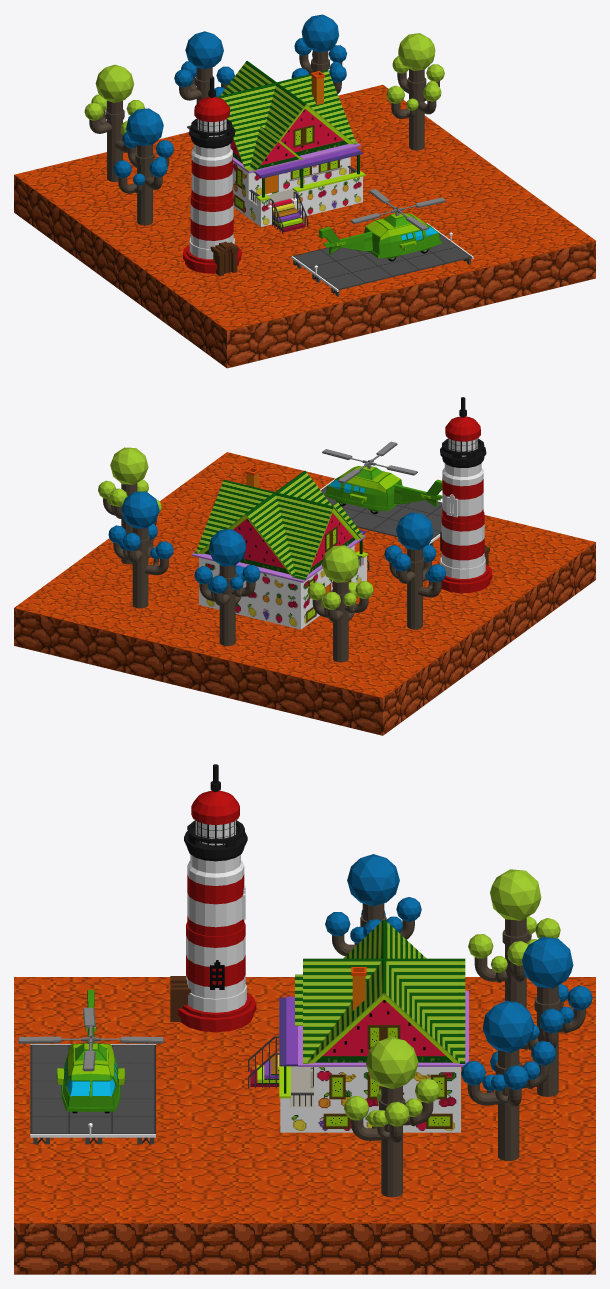
The picture shows the model from 3 angles, top to bottom: view 1: azimuth 30°, elevation 25°; view 2: azimuth 150°, elevation 25°; view 3: azimuth 270°, elevation 25°; orthographic projection. The views are drawn at different scales.
Visible parts, largest first — view 1: Cube.001, Cube.1063, OBJRANDOM_LIGHTHOUSE, VEHICLES_HELICOPTER; view 2: Cube.001, Cube.1063, OBJRANDOM_LIGHTHOUSE, VEHICLES_HELICOPTER; view 3: Cube.001, Cube.1063, OBJRANDOM_LIGHTHOUSE, VEHICLES_HELICOPTER.
Part boxes in pixels (x1=…): Cube.001: x1=14, y1=14, x2=595, y2=368; Cube.1063: x1=187, y1=61, x2=365, y2=233; OBJRANDOM_LIGHTHOUSE: x1=183, y1=77, x2=241, y2=276; VEHICLES_HELICOPTER: x1=319, y1=189, x2=445, y2=261; Cube.001: x1=14, y1=447, x2=595, y2=735; Cube.1063: x1=191, y1=467, x2=369, y2=629; OBJRANDOM_LIGHTHOUSE: x1=440, y1=397, x2=492, y2=593; VEHICLES_HELICOPTER: x1=322, y1=441, x2=442, y2=514; Cube.001: x1=14, y1=854, x2=595, y2=1274; Cube.1063: x1=248, y1=919, x2=468, y2=1132; OBJRANDOM_LIGHTHOUSE: x1=170, y1=764, x2=256, y2=1032; VEHICLES_HELICOPTER: x1=18, y1=990, x2=163, y2=1113.
Size of the model in its own units: 4000 by 2391 by 4000.
33 materials, 6 textured.
